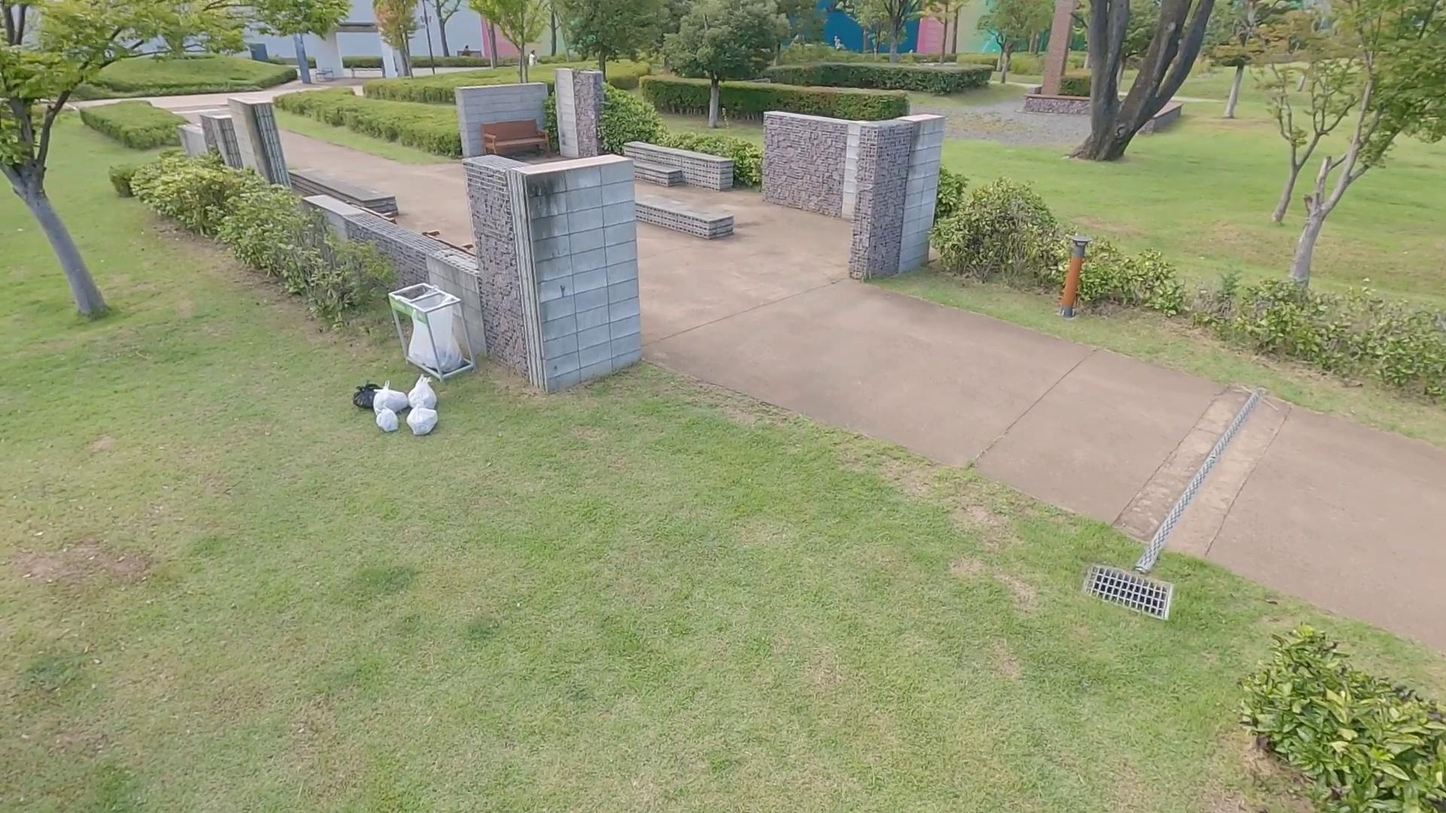trash: (363, 382, 414, 417), (410, 374, 439, 417), (347, 383, 385, 415), (404, 402, 442, 434), (372, 407, 403, 436)
